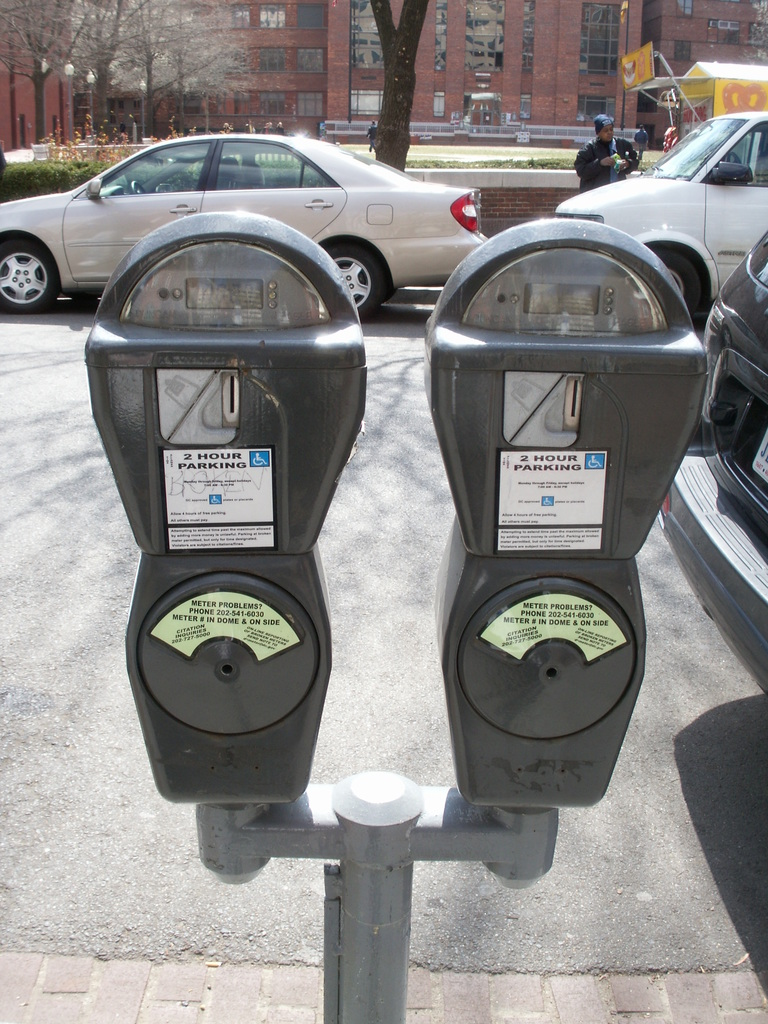Car: (0, 133, 491, 318), (652, 232, 767, 704), (547, 98, 768, 264)
